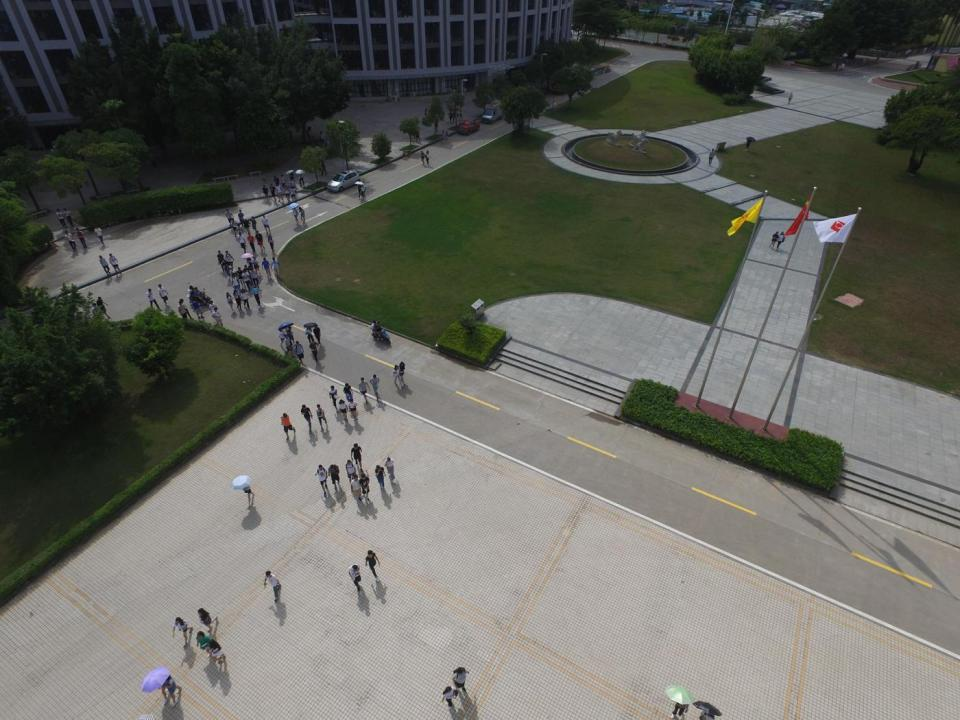car: (326, 169, 361, 192), (456, 119, 480, 135)
truck: (548, 63, 599, 95), (481, 100, 508, 124)
